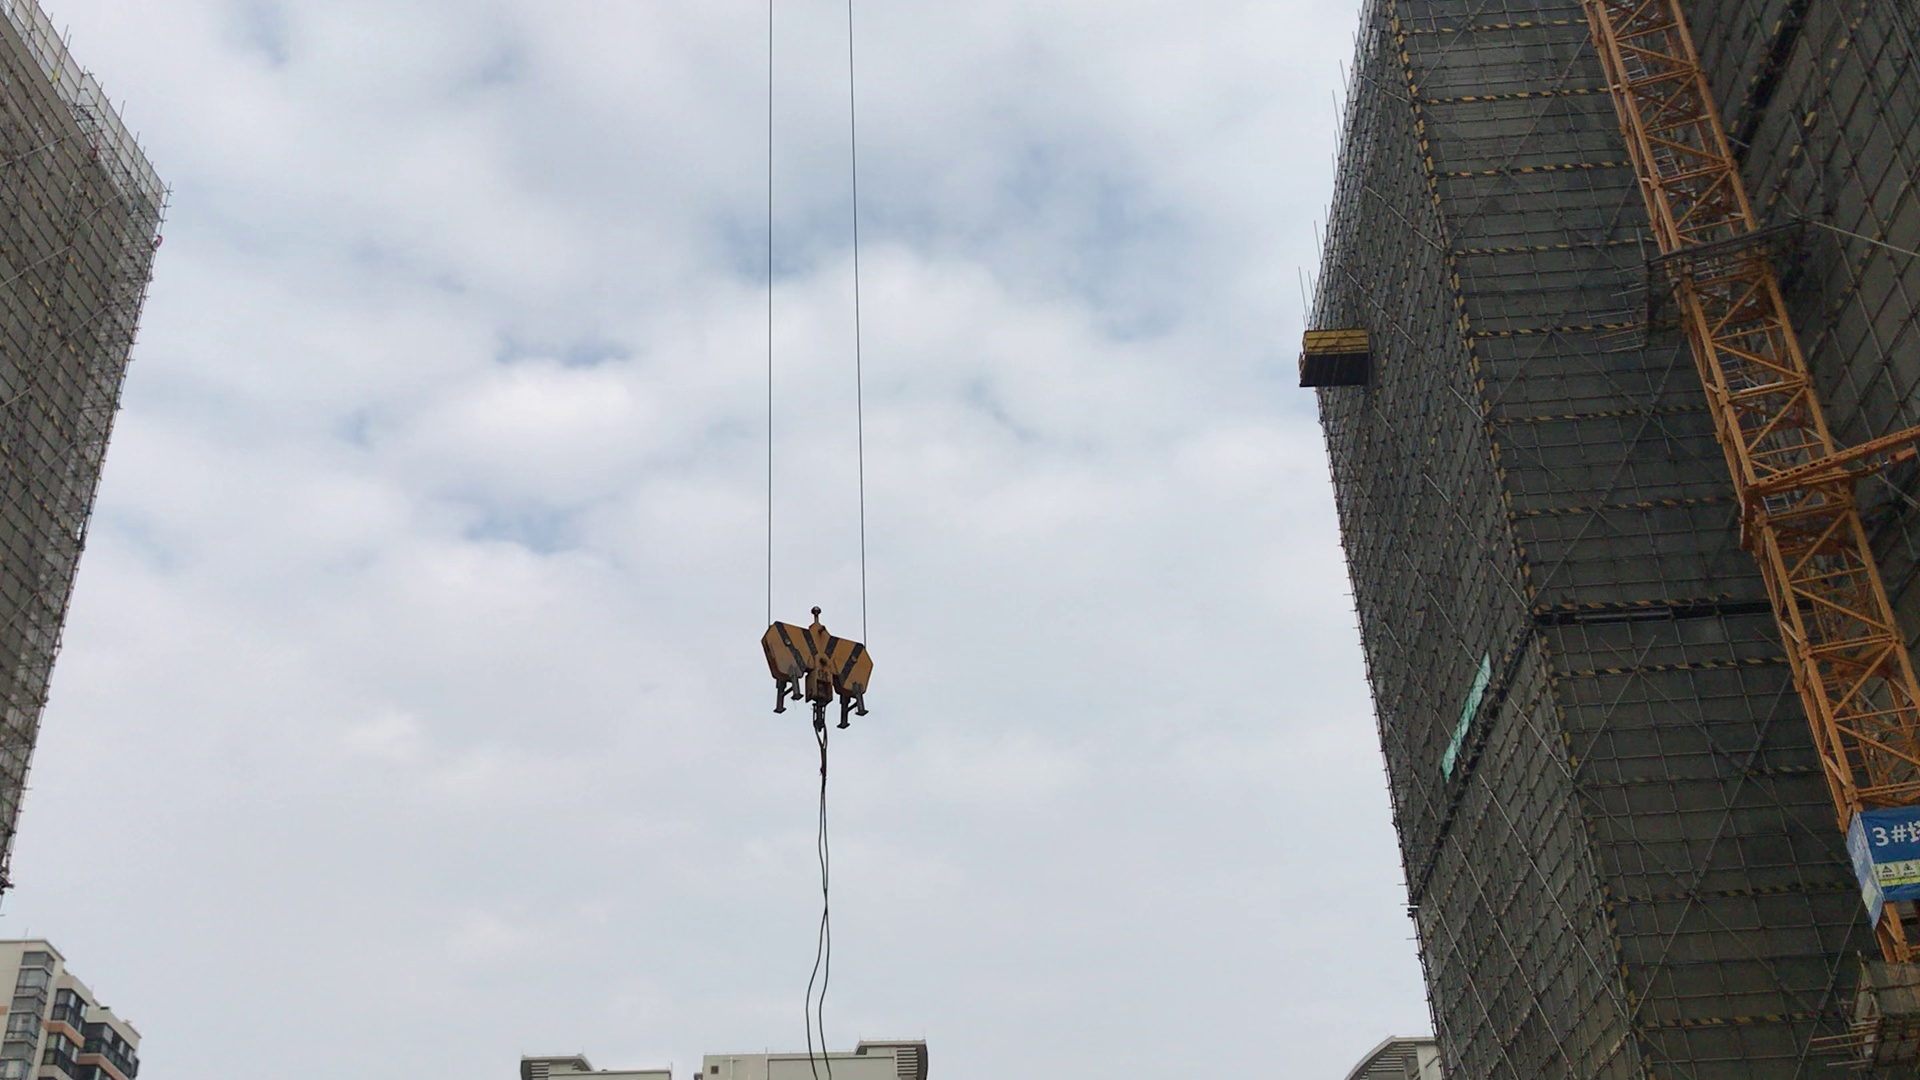hook: (756, 601, 890, 738)
